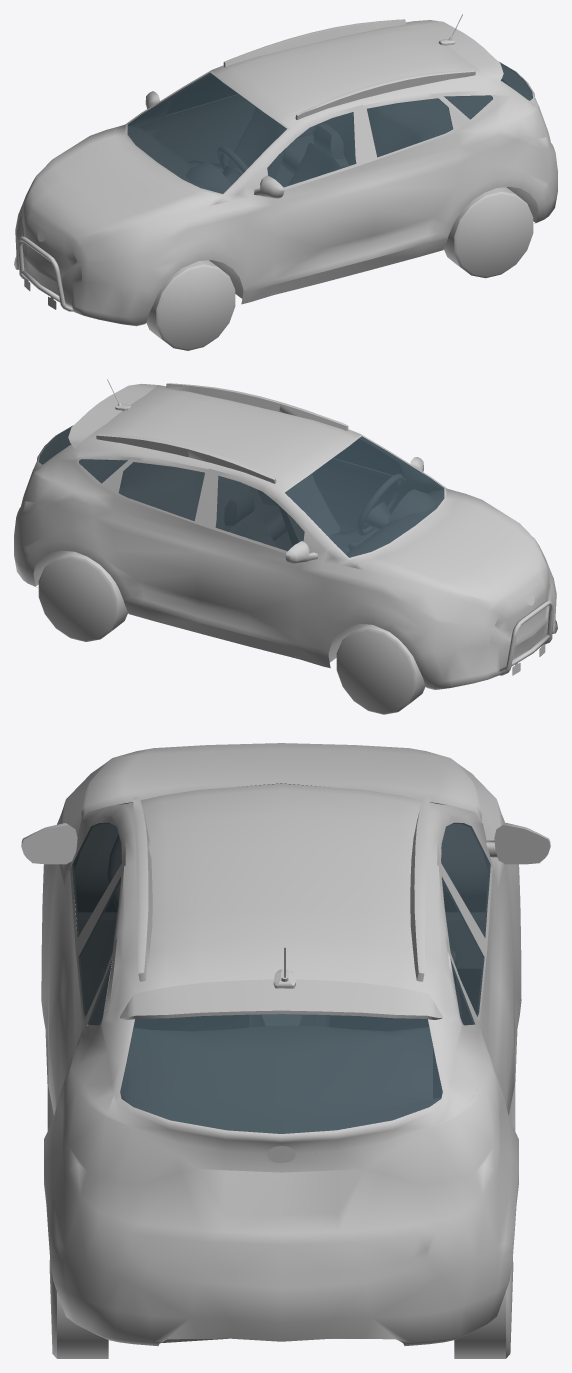
Rendered from Low Poly Car with Interior 6_Silver.FBX.
3 views of the same model, one above another, from view 1: azimuth 30°, elevation 25°; view 2: azimuth 150°, elevation 25°; view 3: azimuth 270°, elevation 25° (orthographic). The views are drawn at different scales.
Visible parts, largest first — view 1: Low Poly Car with Interior 6_Silver, Silver Wheel_BL, Silver Wheel_FL; view 2: Low Poly Car with Interior 6_Silver, Silver Wheel_BR, Silver Wheel_FR, Silver_Steering; view 3: Low Poly Car with Interior 6_Silver, Silver Wheel_BL, Silver Wheel_BR.
Boxes of the visible parts, bbox=[...] form: Low Poly Car with Interior 6_Silver: bbox=[14, 14, 557, 326]; Silver Wheel_BL: bbox=[444, 187, 533, 278]; Silver Wheel_FL: bbox=[146, 260, 235, 350]; Low Poly Car with Interior 6_Silver: bbox=[14, 379, 557, 689]; Silver Wheel_BR: bbox=[38, 551, 127, 641]; Silver Wheel_FR: bbox=[336, 624, 425, 714]; Silver_Steering: bbox=[356, 474, 403, 535]; Low Poly Car with Interior 6_Silver: bbox=[21, 743, 550, 1346]; Silver Wheel_BL: bbox=[49, 1259, 108, 1358]; Silver Wheel_BR: bbox=[454, 1258, 513, 1358].
Size of the model in its own units: 5.43 by 2.25 by 2.52.
